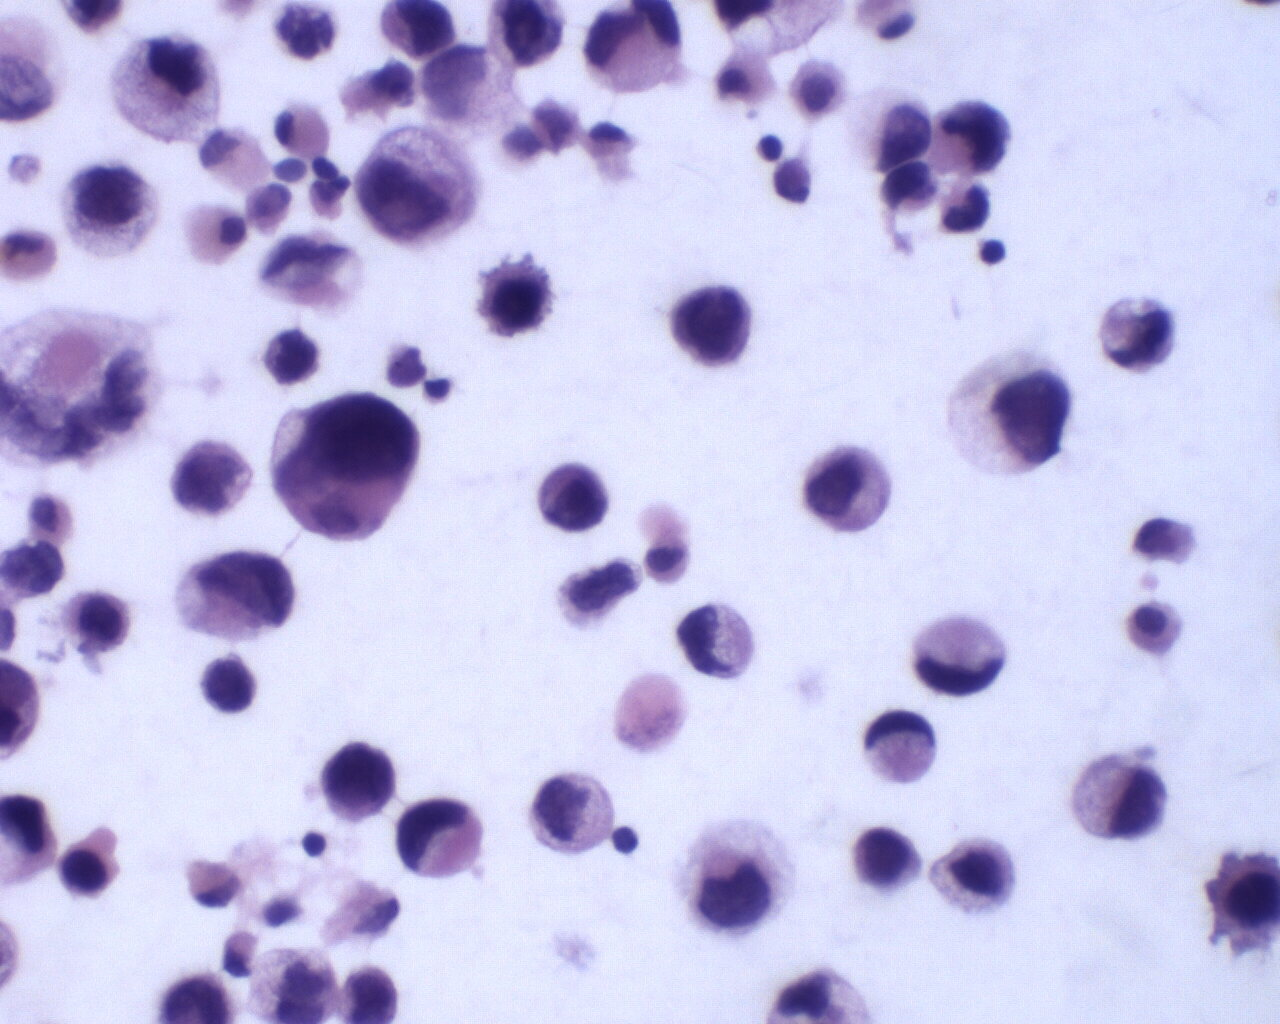ab: (273, 383, 432, 543), (353, 121, 487, 248), (944, 350, 1071, 482), (173, 539, 305, 649), (110, 31, 224, 142), (1071, 742, 1179, 848), (682, 827, 782, 938), (798, 438, 897, 539), (1198, 837, 1280, 958), (63, 163, 160, 260), (926, 829, 1022, 920), (315, 728, 400, 828), (667, 278, 754, 374), (1089, 292, 1182, 380), (523, 769, 618, 856), (932, 92, 1017, 184), (675, 598, 759, 684), (533, 456, 619, 539), (173, 433, 252, 518), (475, 258, 557, 340), (368, 1, 461, 64), (483, 1, 565, 71), (55, 589, 134, 656), (851, 827, 924, 898), (255, 320, 324, 391), (199, 648, 265, 718)
histo: (905, 603, 1013, 695), (857, 701, 941, 792), (177, 193, 249, 270), (271, 94, 340, 161)
lymph: (607, 820, 644, 860), (752, 127, 786, 168), (978, 232, 1010, 271), (296, 827, 327, 862)
meso: (1122, 592, 1188, 664)
